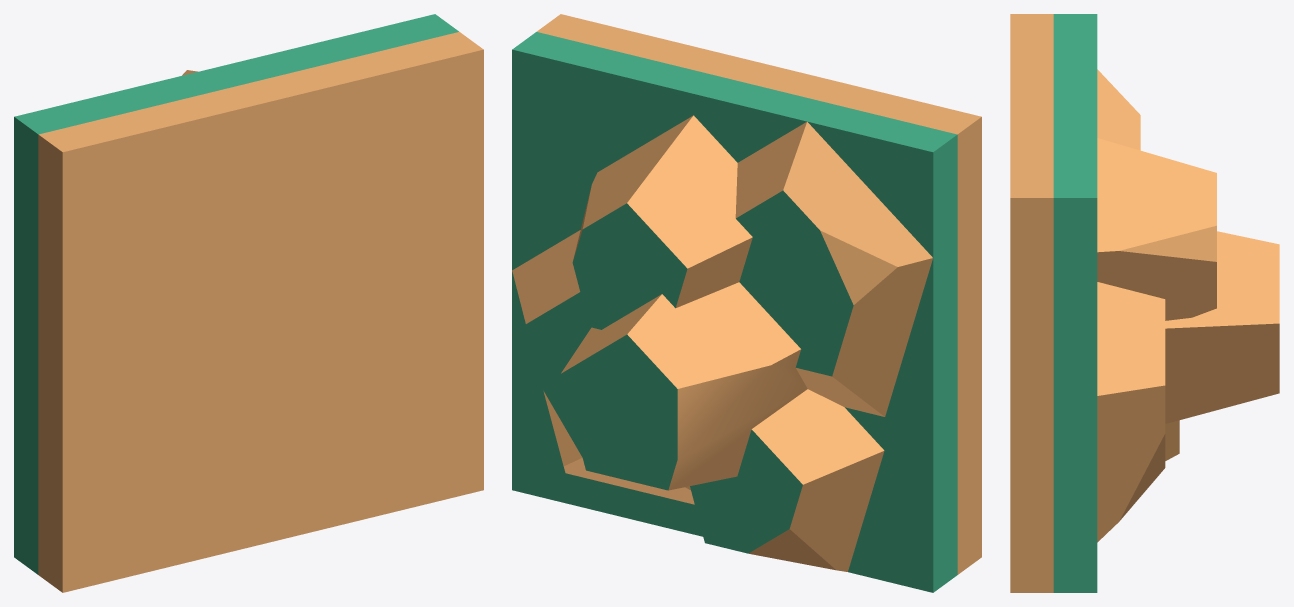
The model's file is tile_rock.obj.
The picture shows the model from 3 angles, left to right: view 1: azimuth 30°, elevation 25°; view 2: azimuth 150°, elevation 25°; view 3: azimuth 270°, elevation 25°; orthographic projection. The views are drawn at different scales.
Parts seen in each view (by area): view 1: tile_rock.002; view 2: tile_rock.002; view 3: tile_rock.002.
Boxes of the visible parts, left/top/right/bottom form: tile_rock.002: left=14, top=14, right=483, bottom=592; tile_rock.002: left=512, top=14, right=981, bottom=592; tile_rock.002: left=1010, top=14, right=1279, bottom=592.
Size of the model in its own units: 1 by 1 by 0.6186.
